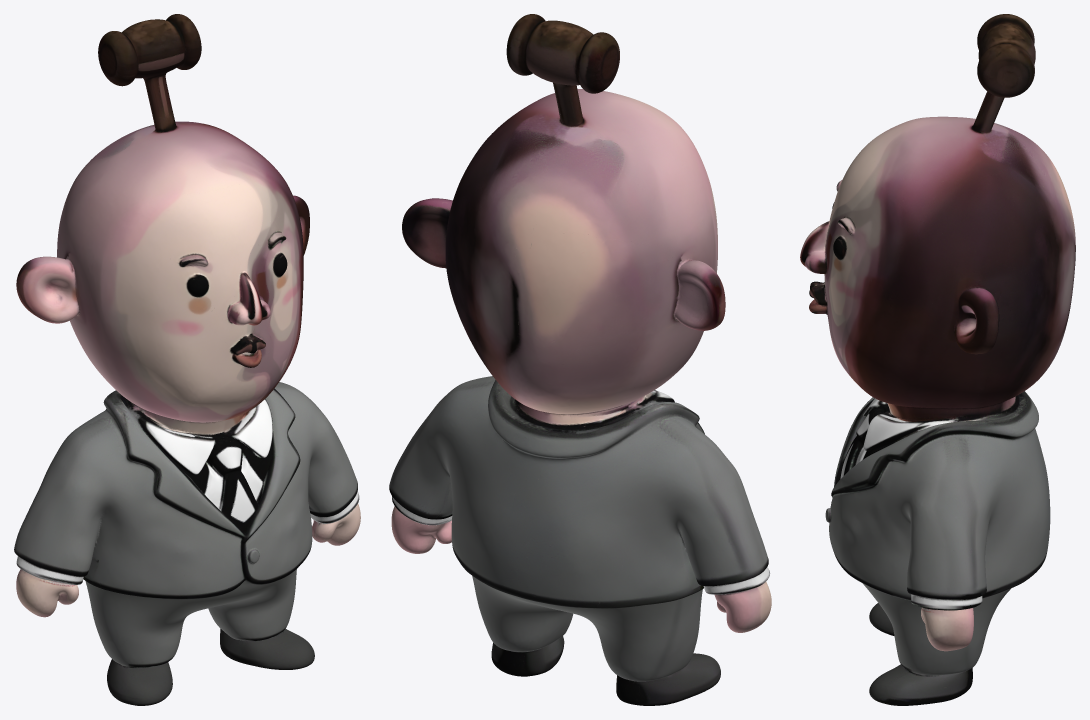
File: players.glb
3 views of the same model, side by side, from view 1: azimuth 30°, elevation 25°; view 2: azimuth 150°, elevation 25°; view 3: azimuth 270°, elevation 25° (orthographic). The views are drawn at different scales.
Bounding box in the file's own units: 1.08 × 1.9 × 0.7557.
1 material, 1 textured.
